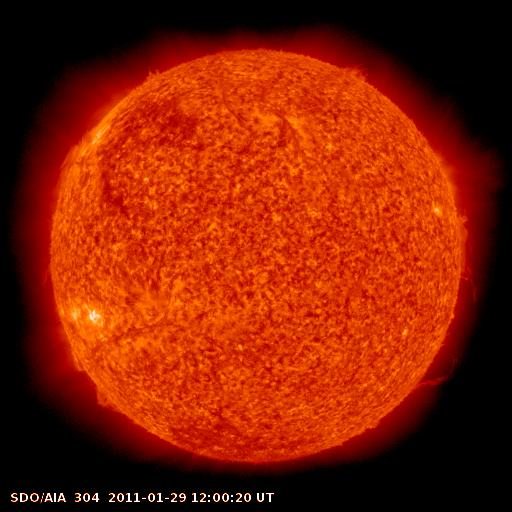prominence: (52, 332, 136, 422), (450, 206, 496, 312), (46, 114, 103, 194), (406, 332, 465, 398), (332, 52, 386, 95)
